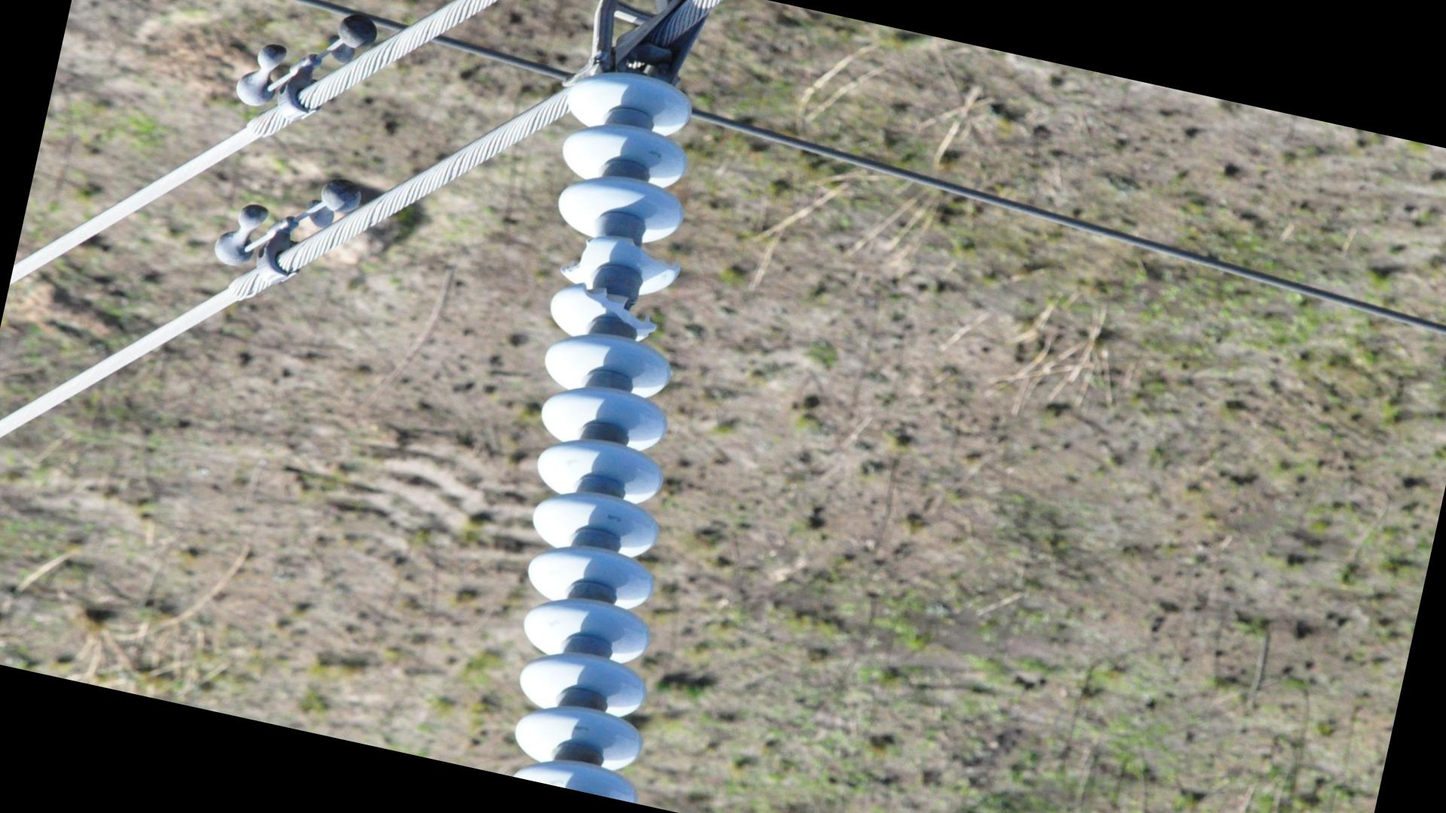damper: (203, 150, 371, 305), (227, 1, 386, 139)
